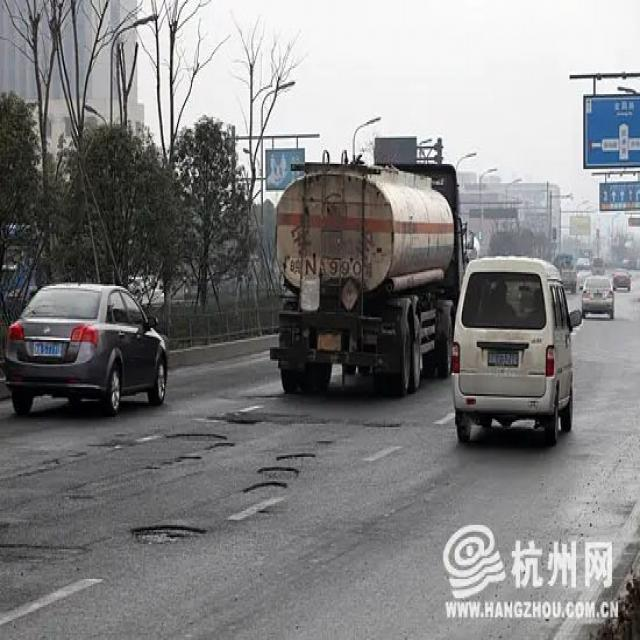Pothole: (132, 525, 204, 551), (350, 417, 406, 434), (167, 430, 234, 444), (260, 460, 302, 480), (251, 480, 290, 497), (217, 414, 264, 426), (254, 394, 286, 403)
